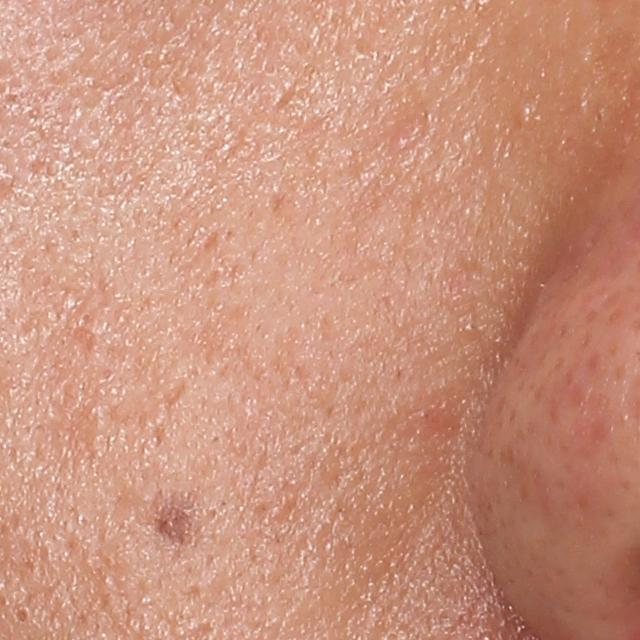atrophic_scar: (38, 385, 100, 474), (69, 313, 97, 360), (164, 380, 189, 408), (198, 228, 218, 253)
comedo: (8, 603, 33, 629), (517, 102, 535, 124)
nevus: (150, 495, 195, 554)
